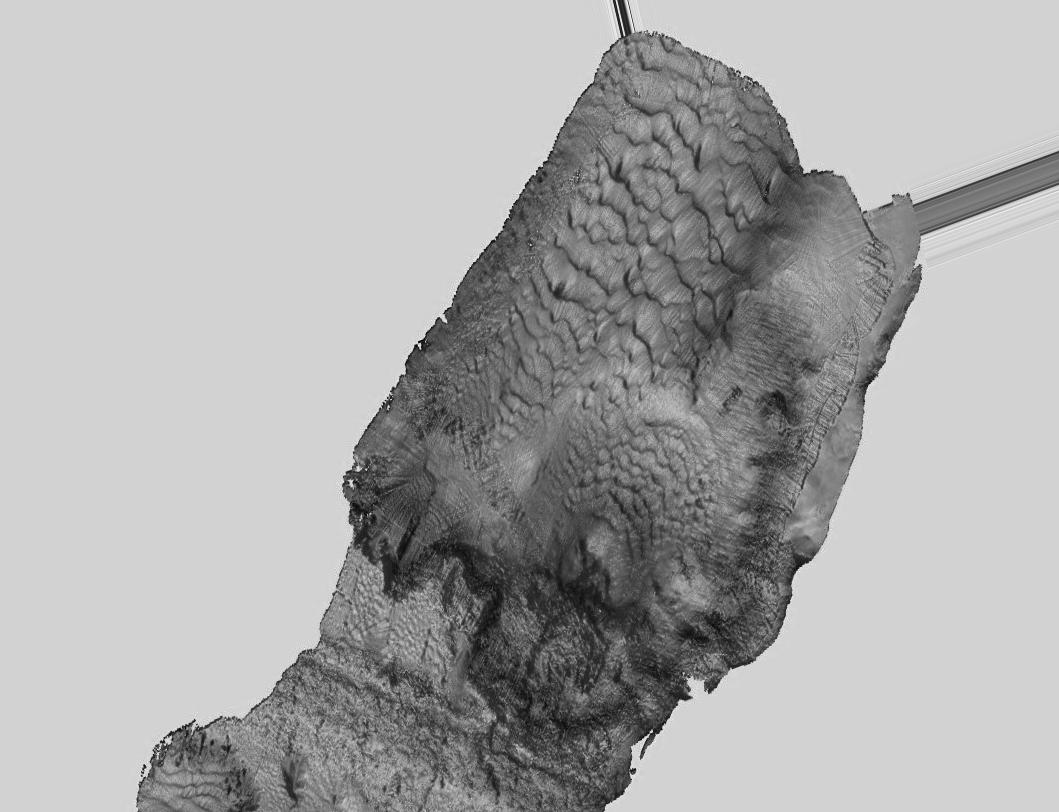Dune: (539, 212, 665, 385), (640, 164, 734, 359), (559, 414, 704, 524), (629, 97, 727, 245), (592, 143, 671, 311), (486, 291, 581, 420), (125, 764, 231, 812)
Scarp: (726, 393, 989, 685), (623, 598, 840, 757)
Scour pit: (497, 510, 681, 633)
Submerged dike: (226, 658, 447, 753), (386, 730, 620, 801)
